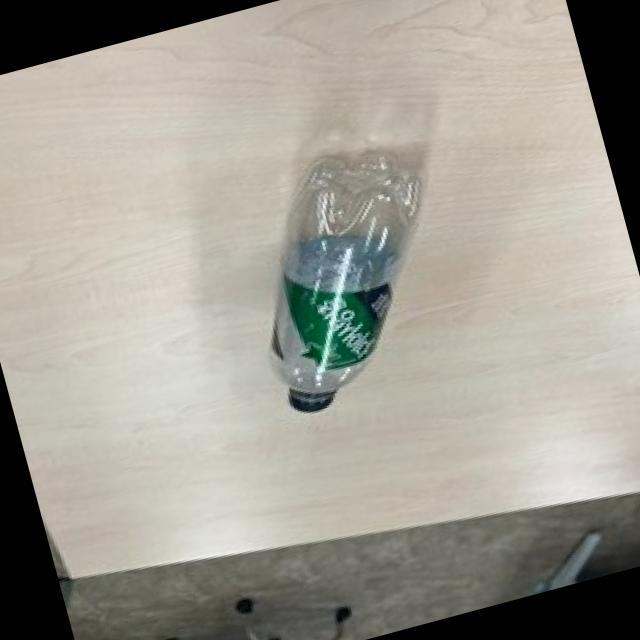good: (220, 128, 478, 428)
